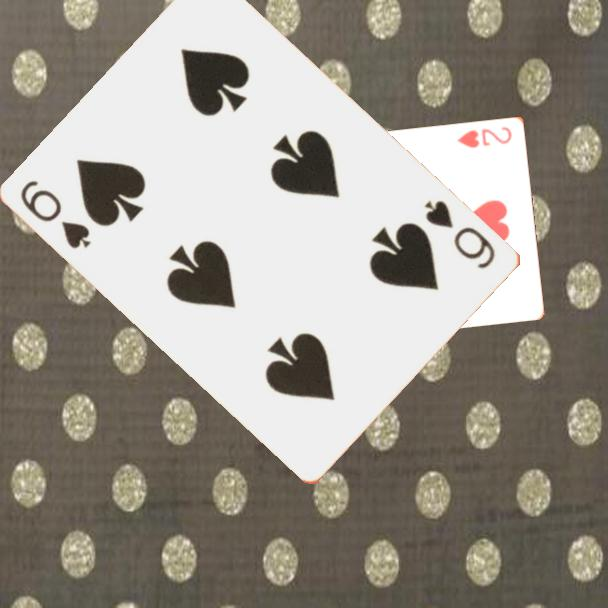h02: (454, 123, 515, 150)
s06: (421, 196, 499, 272), (17, 176, 95, 252)
